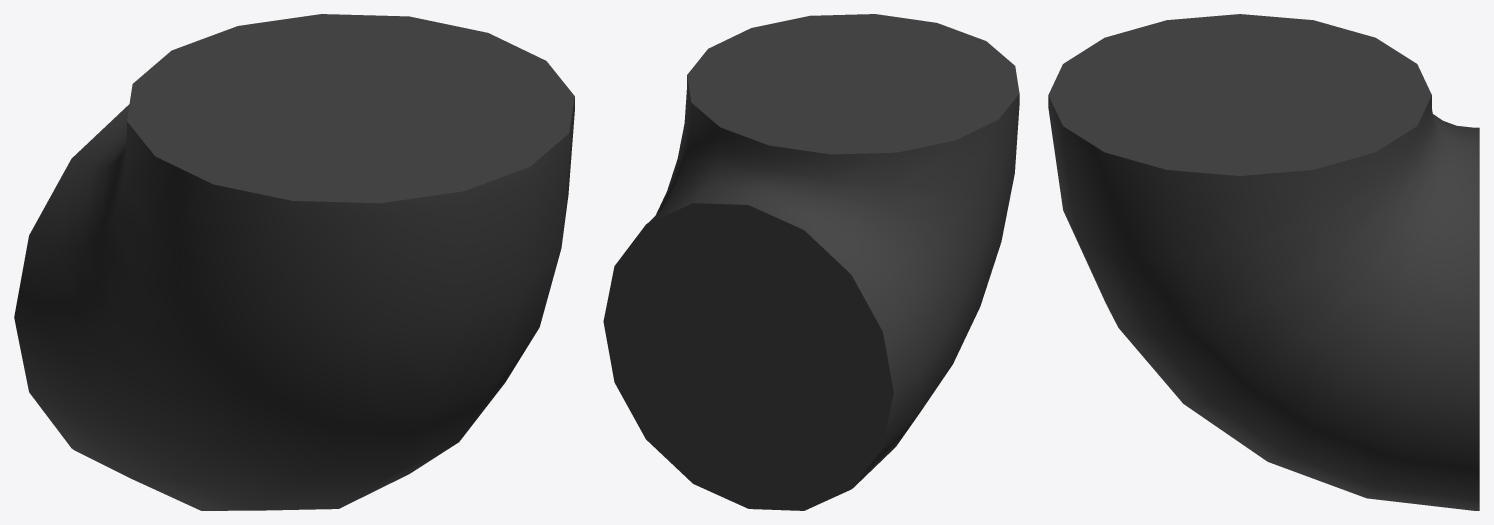
The picture shows the model from 3 angles, left to right: view 1: azimuth 30°, elevation 25°; view 2: azimuth 150°, elevation 25°; view 3: azimuth 270°, elevation 25°; orthographic projection. The views are drawn at different scales.
Parts seen in each view (by area): view 1: Elbow Pipe.001; view 2: Elbow Pipe.001; view 3: Elbow Pipe.001.
Part boxes in pixels (bbox=[...]): Elbow Pipe.001: bbox=[14, 14, 574, 510]; Elbow Pipe.001: bbox=[603, 14, 1019, 510]; Elbow Pipe.001: bbox=[1048, 14, 1479, 510].
Size of the model in its own units: 200 by 229 by 225.
